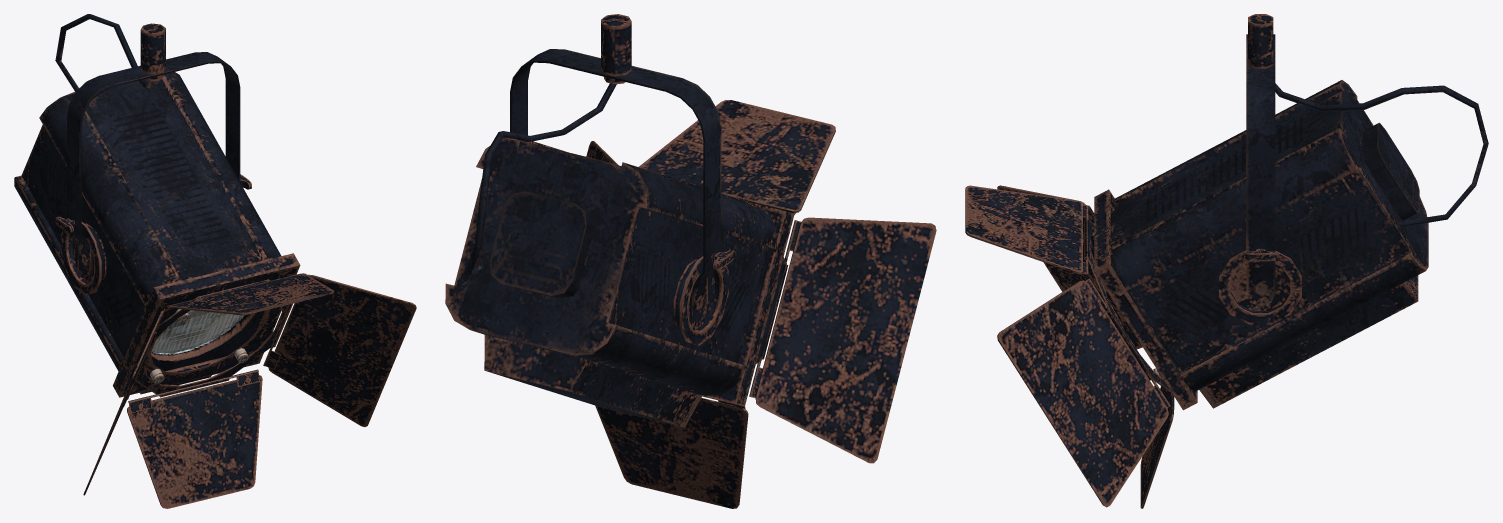
Rendered from sm35_052_spotlight01a.fbx.
The picture shows the model from 3 angles, left to right: view 1: azimuth 30°, elevation 25°; view 2: azimuth 150°, elevation 25°; view 3: azimuth 270°, elevation 25°; orthographic projection. The views are drawn at different scales.
Parts seen in each view (by area): view 1: LOD_1_Group_0_Sub_1__sm35_052_SpotLight01A_A_Mat, LOD_1_Group_0_Sub_2__sm35_052_SpotLight01A_A_Mat__Env_Emissi; view 2: LOD_1_Group_0_Sub_1__sm35_052_SpotLight01A_A_Mat; view 3: LOD_1_Group_0_Sub_1__sm35_052_SpotLight01A_A_Mat.
Part boxes in pixels (<box>): LOD_1_Group_0_Sub_1__sm35_052_SpotLight01A_A_Mat: <box>14,14,416,508</box>; LOD_1_Group_0_Sub_2__sm35_052_SpotLight01A_A_Mat__Env_Emissi: <box>152,310,243,353</box>; LOD_1_Group_0_Sub_1__sm35_052_SpotLight01A_A_Mat: <box>445,14,936,508</box>; LOD_1_Group_0_Sub_1__sm35_052_SpotLight01A_A_Mat: <box>965,14,1488,508</box>.
Bounding box in the file's own units: 0.5165 × 0.7456 × 0.757.
